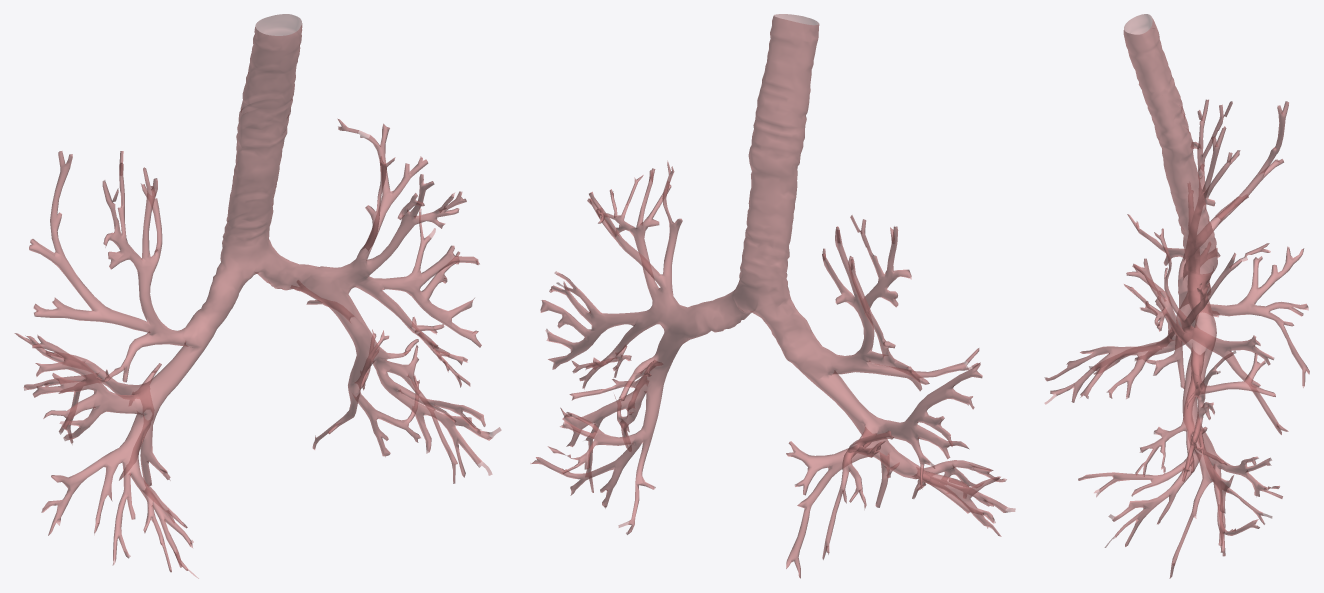
File: 3DPX-021148.glb
3 renders of one model, left to right at view 1: azimuth 30°, elevation 25°; view 2: azimuth 150°, elevation 25°; view 3: azimuth 270°, elevation 25°, orthographic. The views are drawn at different scales.
Visible parts, largest first — view 1: bronchiShape; view 2: bronchiShape; view 3: bronchiShape.
Boxes of the visible parts, left/top/right/bottom form: bronchiShape: left=14, top=14, right=501, bottom=578; bronchiShape: left=530, top=14, right=1015, bottom=578; bronchiShape: left=1044, top=14, right=1309, bottom=578.
Size of the model in its own units: 20.43 by 22.73 by 11.58.
